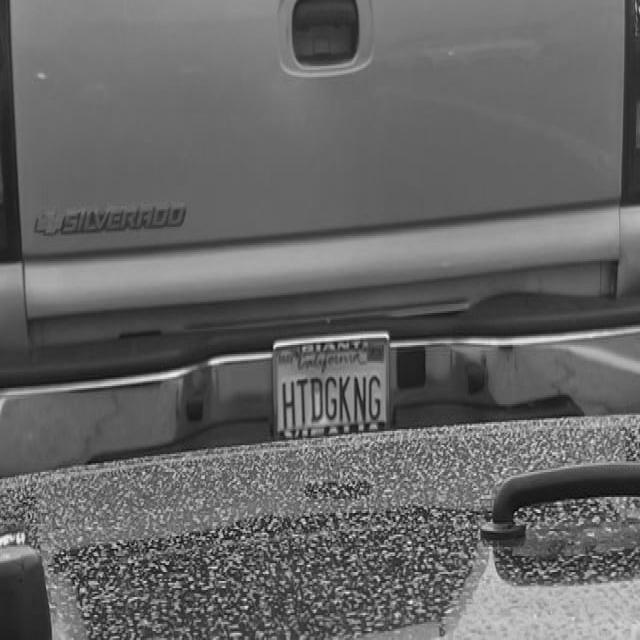LicensePlate: (272, 330, 391, 444)
